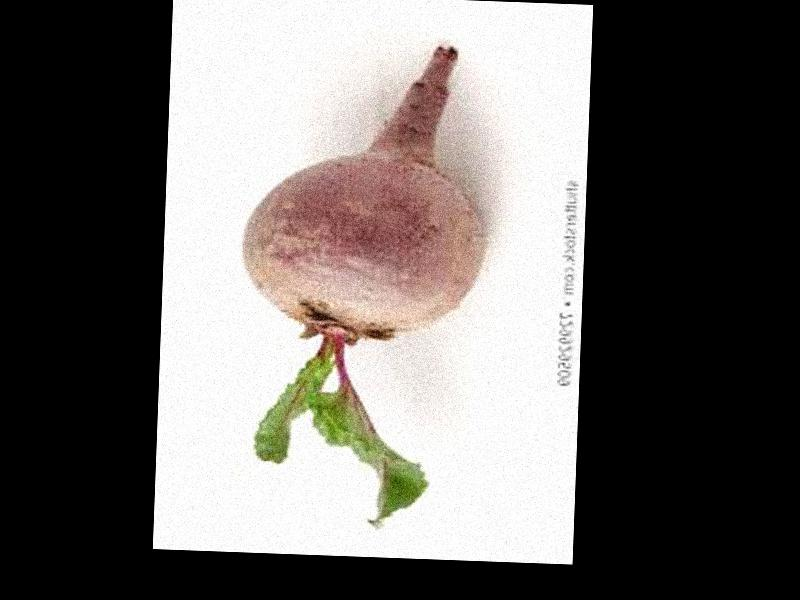Beet: (234, 42, 489, 532)
